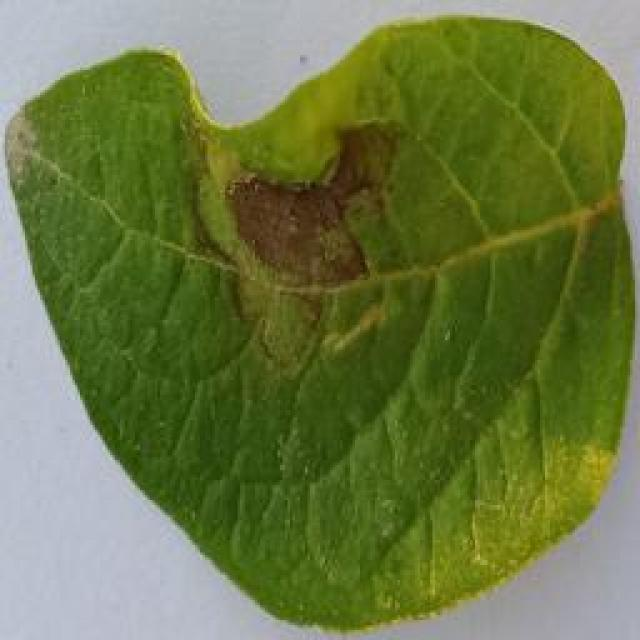Potato_Late_Blight: (5, 5, 640, 637)
